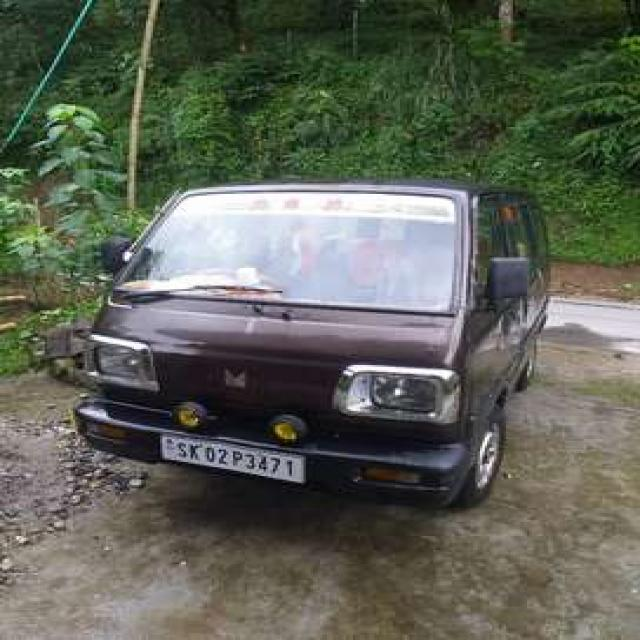Plate: (159, 432, 302, 483)
